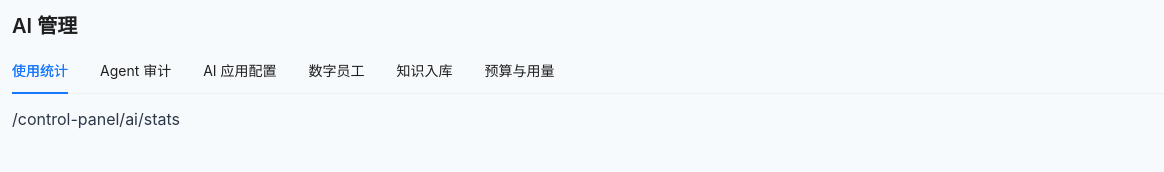
Scenario: AiManagementLayout(S2-2 控制台 AI 管理) › 切换标签改变路由
Click the tab "Agent 审计" at {"x": 136, "y": 71}, box [100,60,171,82]
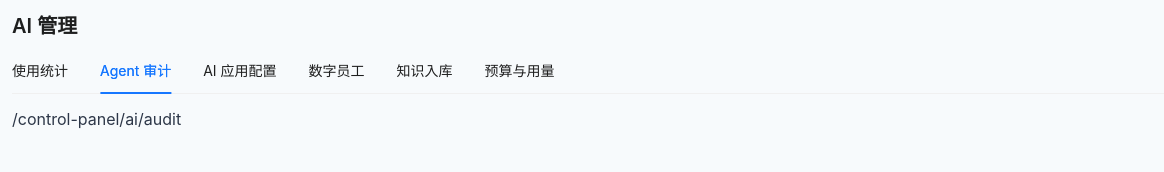
Expected: the text with test id "page" reads "/control-panel/ai/audit", [12,109,181,129]
